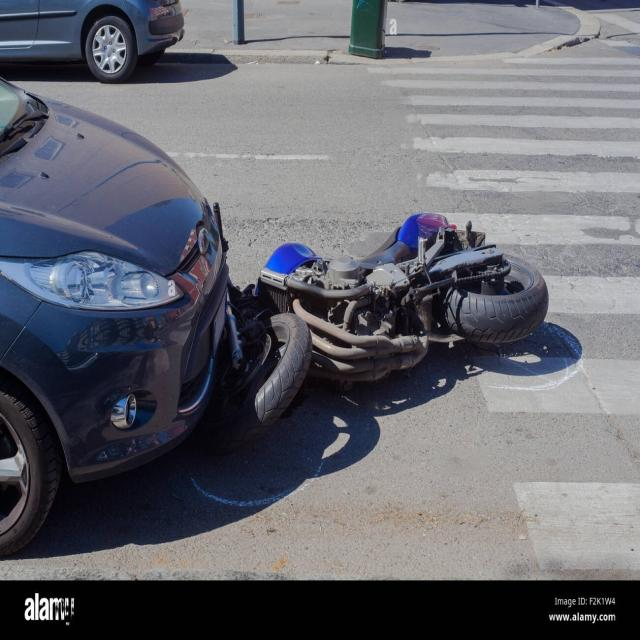accident: (198, 212, 548, 454)
